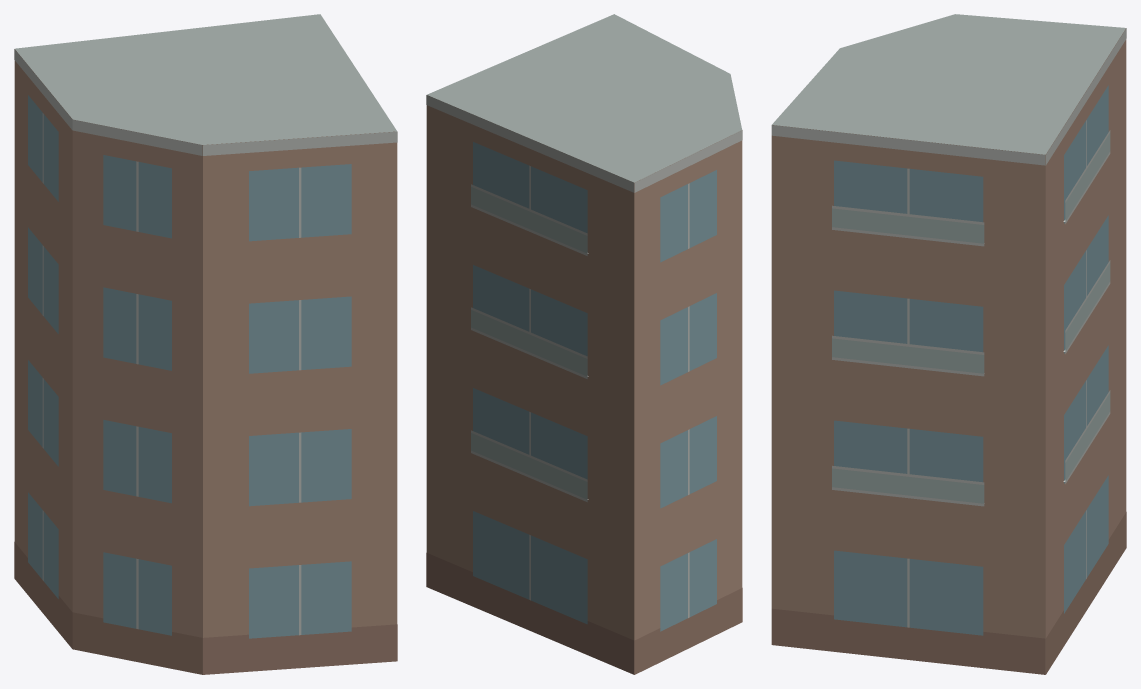
Rendered from survey-upis-32471685.glb.
The picture shows the model from 3 angles, left to right: view 1: azimuth 30°, elevation 25°; view 2: azimuth 150°, elevation 25°; view 3: azimuth 270°, elevation 25°; orthographic projection. The views are drawn at different scales.
Parts seen in each view (by area): view 1: survey-upis-32471685.tmp; view 2: survey-upis-32471685.tmp; view 3: survey-upis-32471685.tmp.
Boxes of the visible parts, box(x1,y1,x2,y2) form: survey-upis-32471685.tmp: box(14, 14, 397, 674); survey-upis-32471685.tmp: box(426, 14, 742, 674); survey-upis-32471685.tmp: box(771, 14, 1126, 674).
Size of the model in its own units: 6.8 by 11.7 by 7.24.
